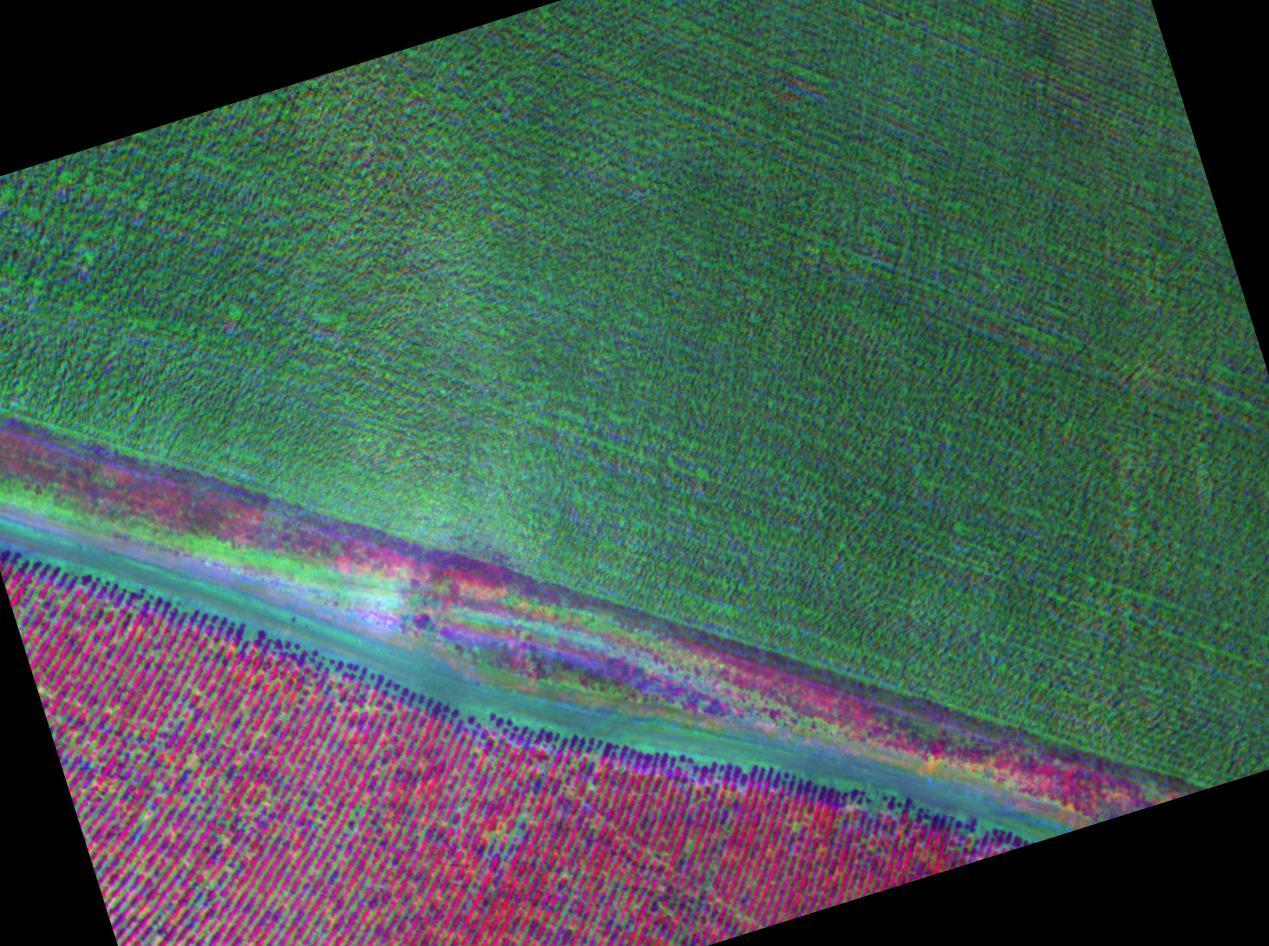dc: (246, 770, 338, 843), (111, 775, 175, 849), (631, 875, 707, 933), (476, 800, 543, 852), (153, 693, 189, 740)
